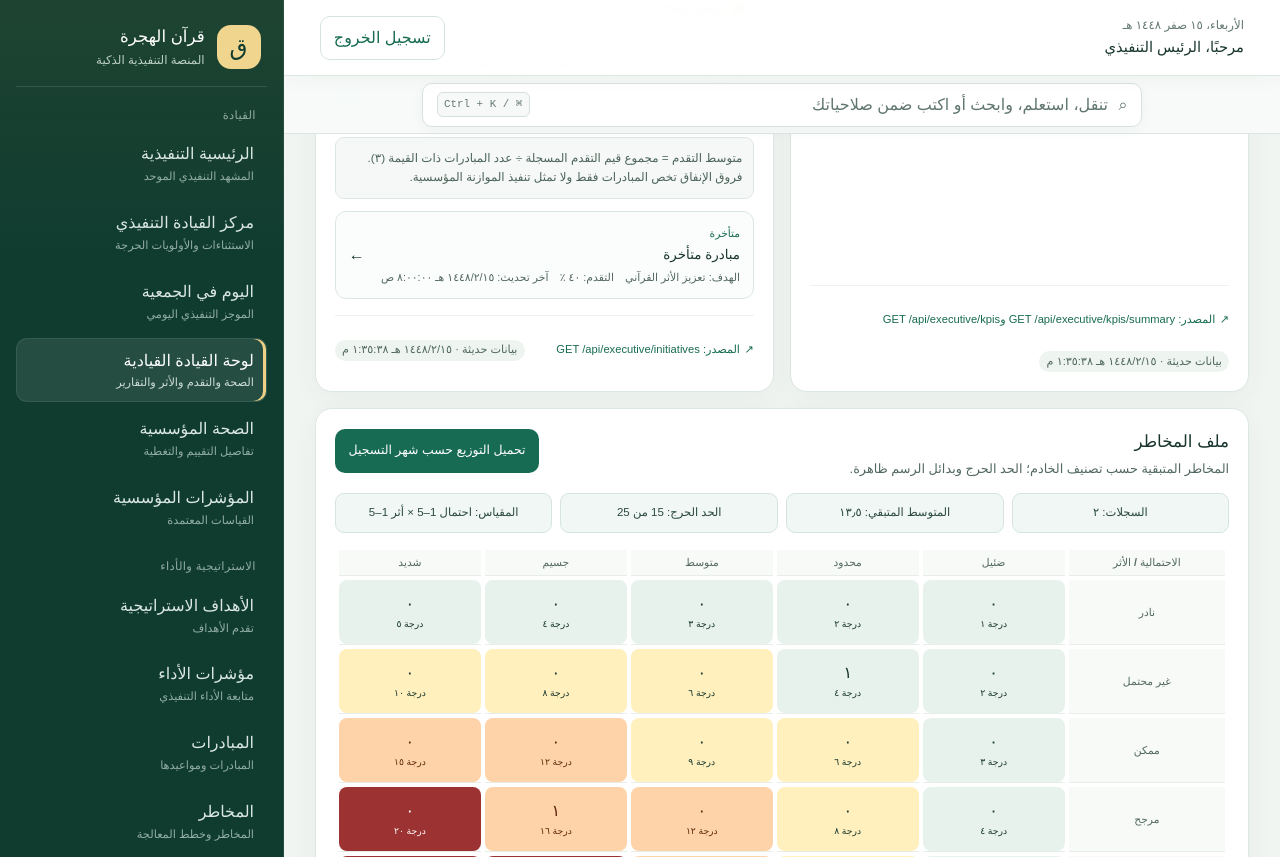
Scenario: Sprint 1C executive leadership dashboard › provides numeric risk alternatives and loads risk and Quran trends only on request
(page scrolled)
expect the heading "ملف المخاطر" is shown: met, box left=1134, top=432, right=1229, bottom=451
expect the text "الحد الحرج: 15 من 25" is shown: met, box left=560, top=493, right=778, bottom=533
Click the button "تحميل التوزيع حسب شهر التسجيل" at (437, 451), box left=335, top=429, right=539, bottom=473
(page scrolled)
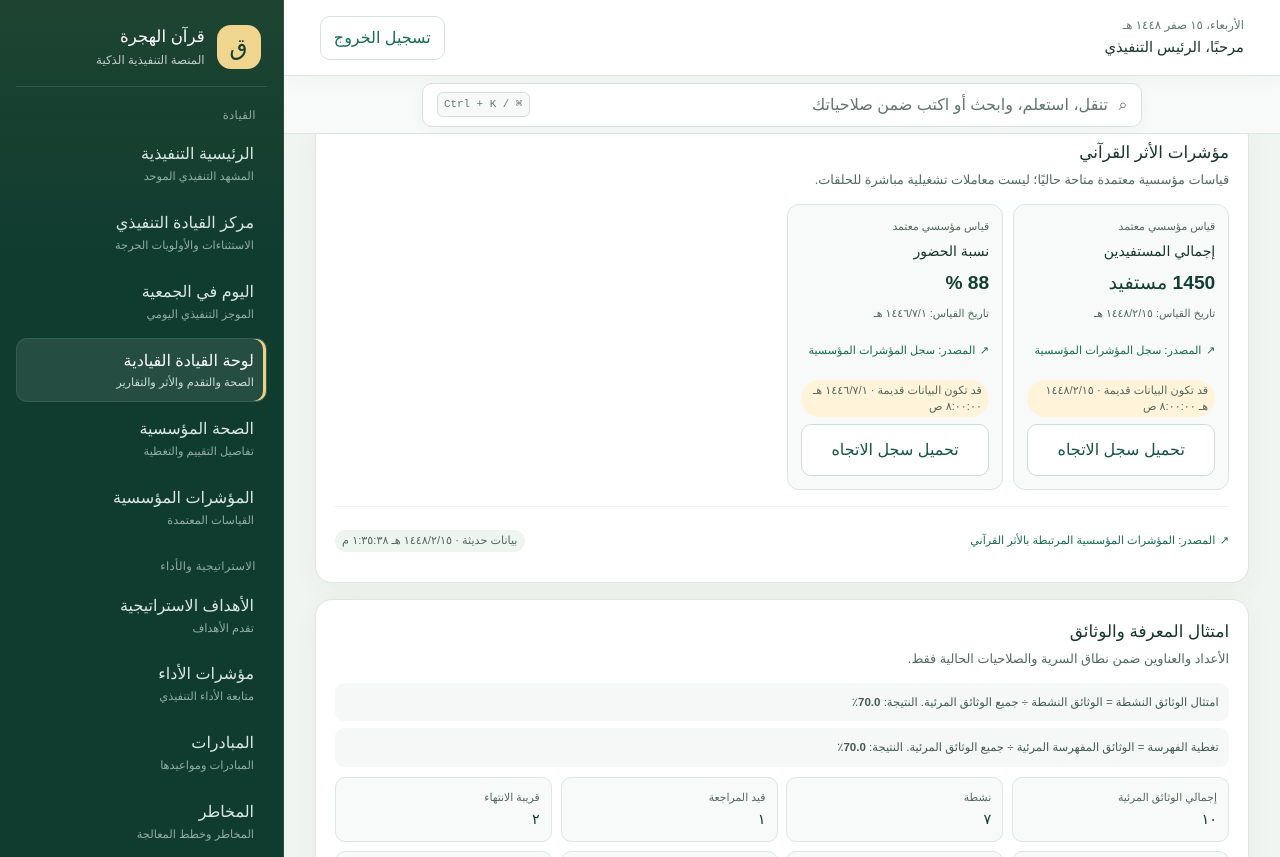
Click the button "تحميل سجل الاتجاه" below "1450 مستفيد" at (1121, 450), box left=1027, top=424, right=1215, bottom=476
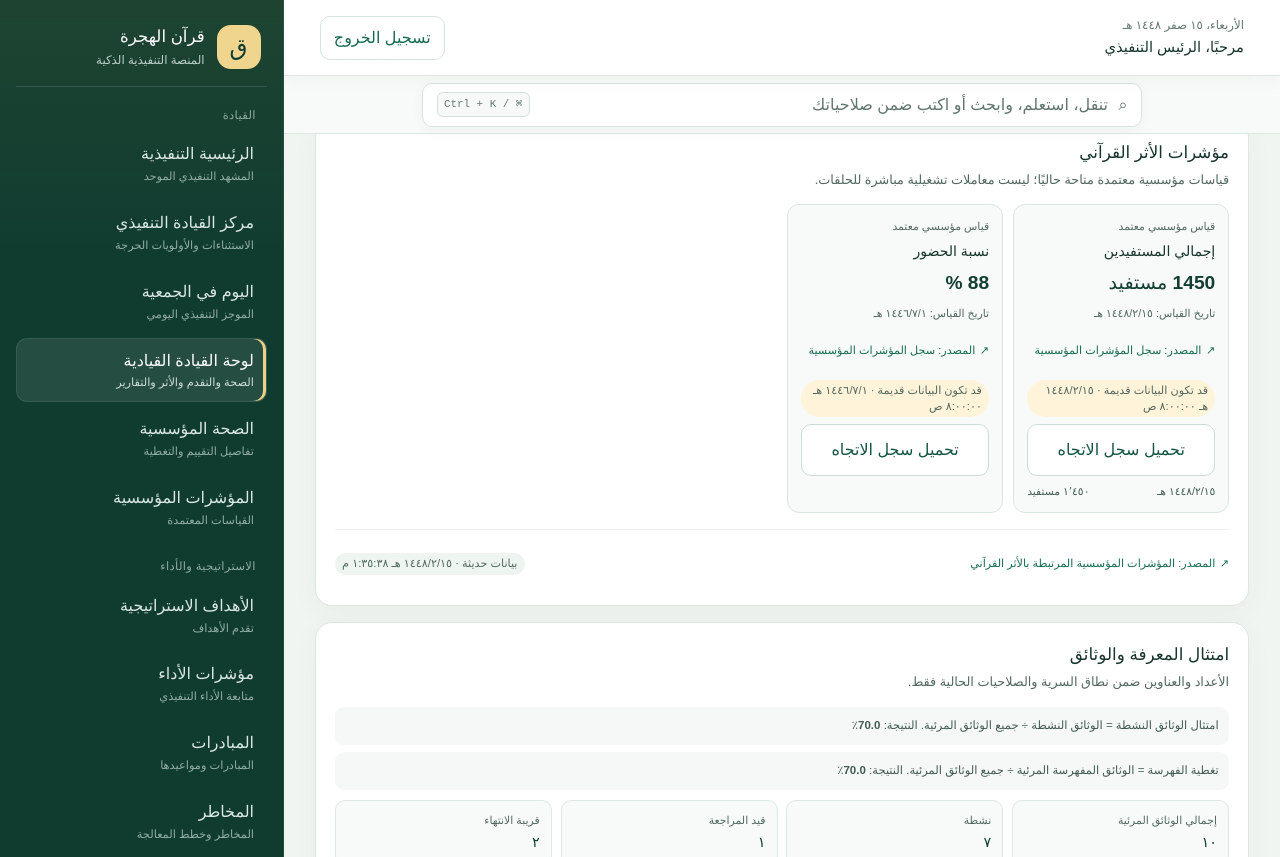
expect the list named "سجل قياسات إجمالي المستفيدين" is shown: met, box left=1027, top=483, right=1215, bottom=499
